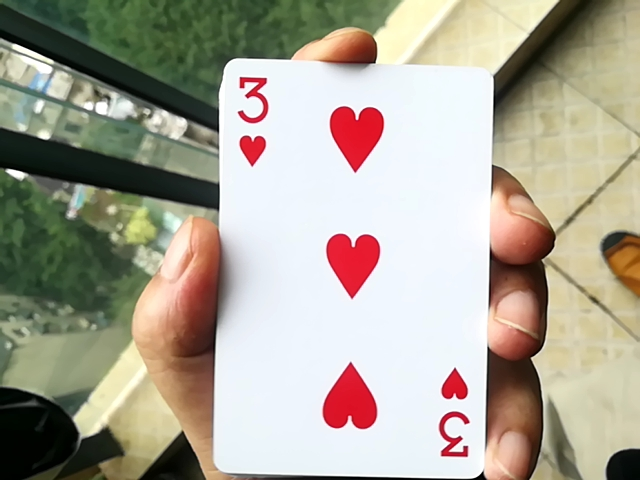hx 3: (207, 40, 492, 480)
